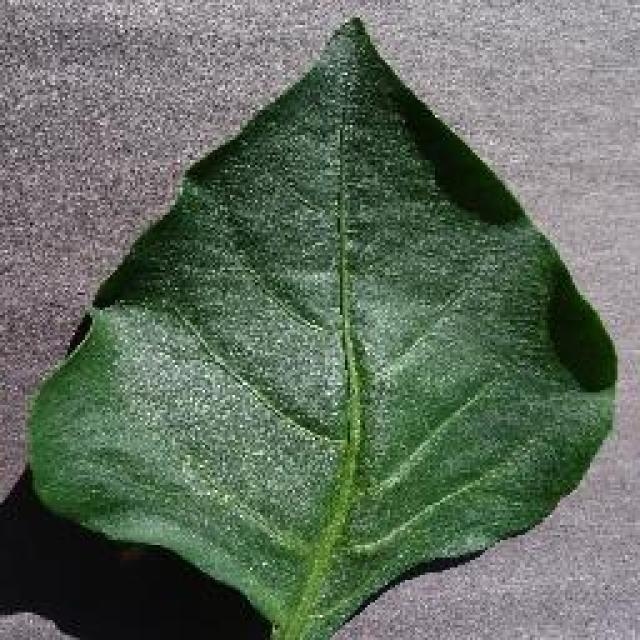Chilli_Healthy: (22, 12, 618, 638)
